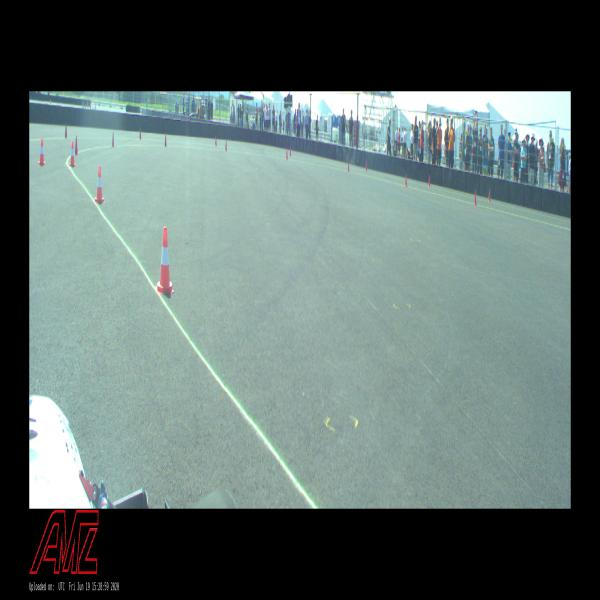orange_cone: (155, 227, 174, 293), (95, 166, 104, 204), (69, 141, 76, 167), (38, 139, 45, 165)
